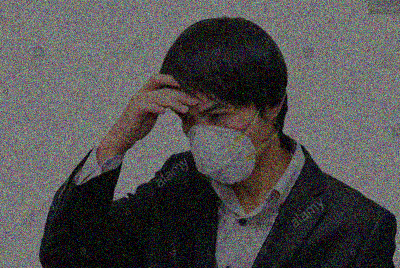with_mask: (183, 101, 270, 185)
